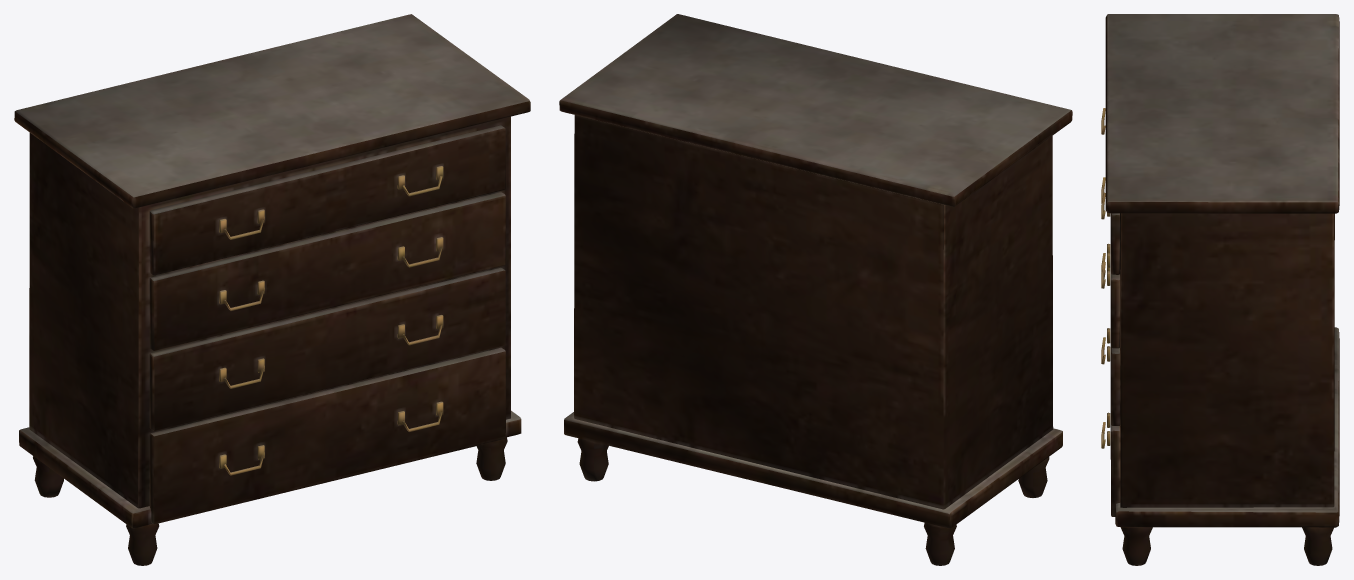
The model's file is dresser-low.glb.
The picture shows the model from 3 angles, left to right: view 1: azimuth 30°, elevation 25°; view 2: azimuth 150°, elevation 25°; view 3: azimuth 270°, elevation 25°; orthographic projection. The views are drawn at different scales.
Parts seen in each view (by area): view 1: dresser-low; view 2: dresser-low; view 3: dresser-low.
Part boxes in pixels (x1,y1,x2,y2): dresser-low: (14,14,530,565); dresser-low: (559,14,1072,565); dresser-low: (1101,14,1339,565).
Size of the model in its own units: 0.94 by 0.86 by 0.4993.
1 material, 1 textured.
